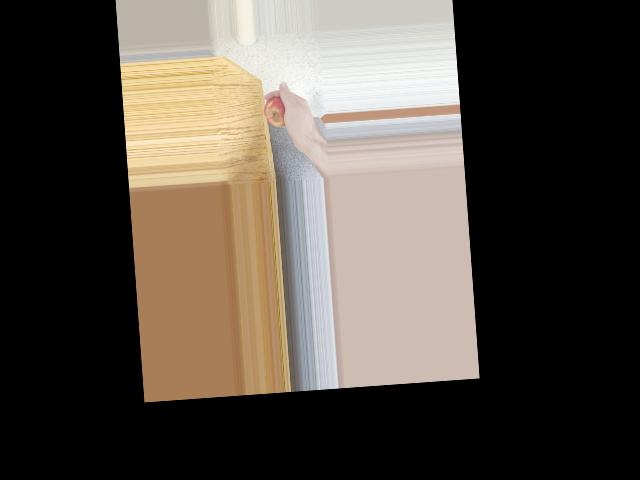apple: (261, 94, 298, 131)
